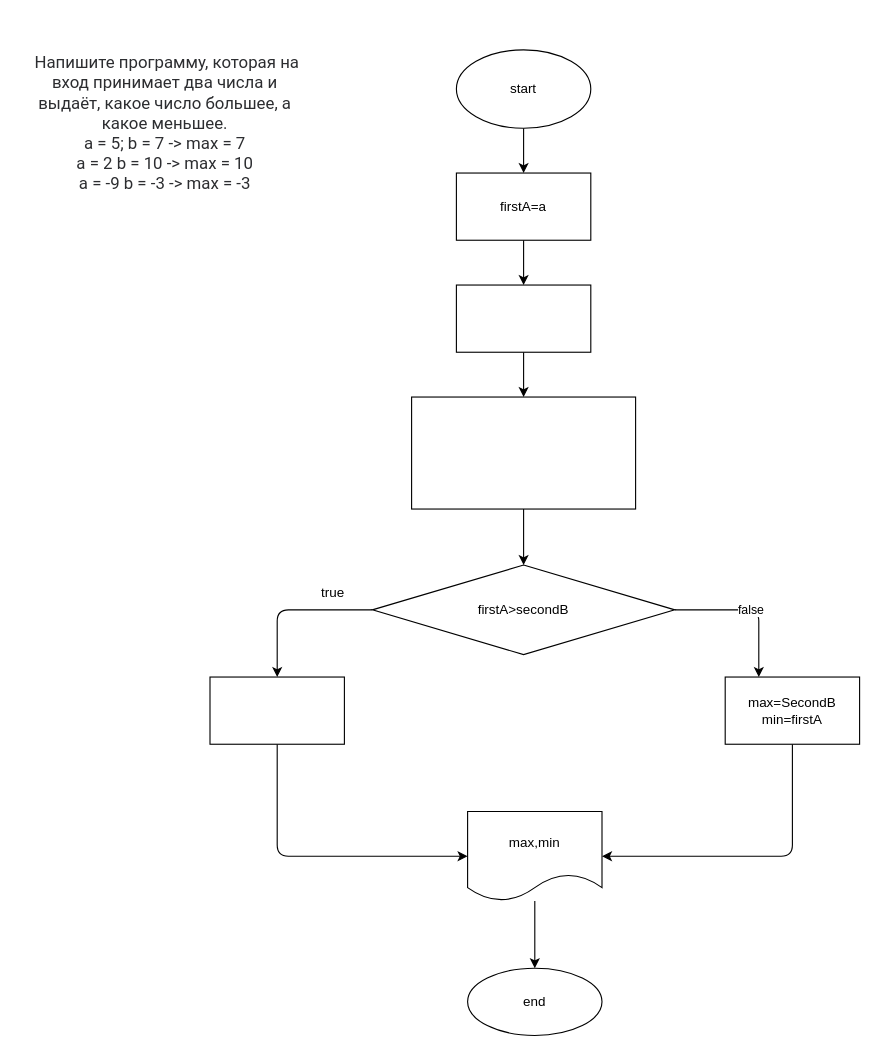
The diagram is 879 pixels wide and 1055 high, and some of its shapes have lost their labels. The shapes that lost their labels are listed below. From the top down, each one's centre as x and y in pixels, then its label:
the point at 523,318: secondB=b
the point at 523,452: max=0 min=0
the point at 276,710: max=firstA min=secondB
